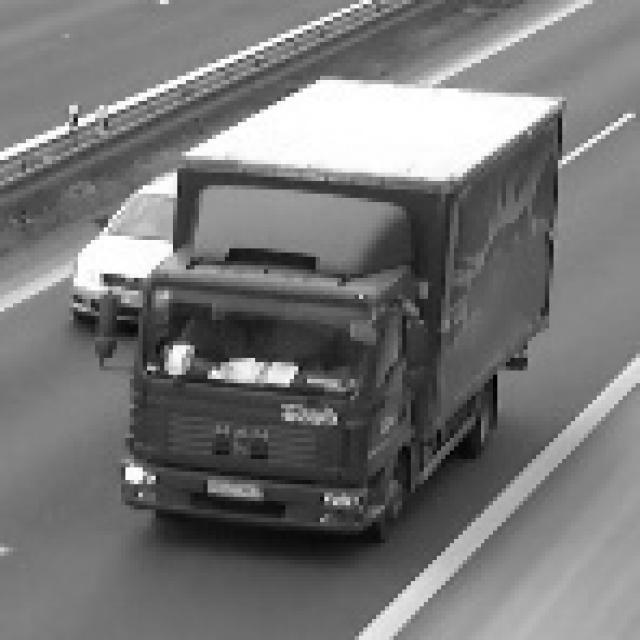truck: (92, 235, 445, 544)
